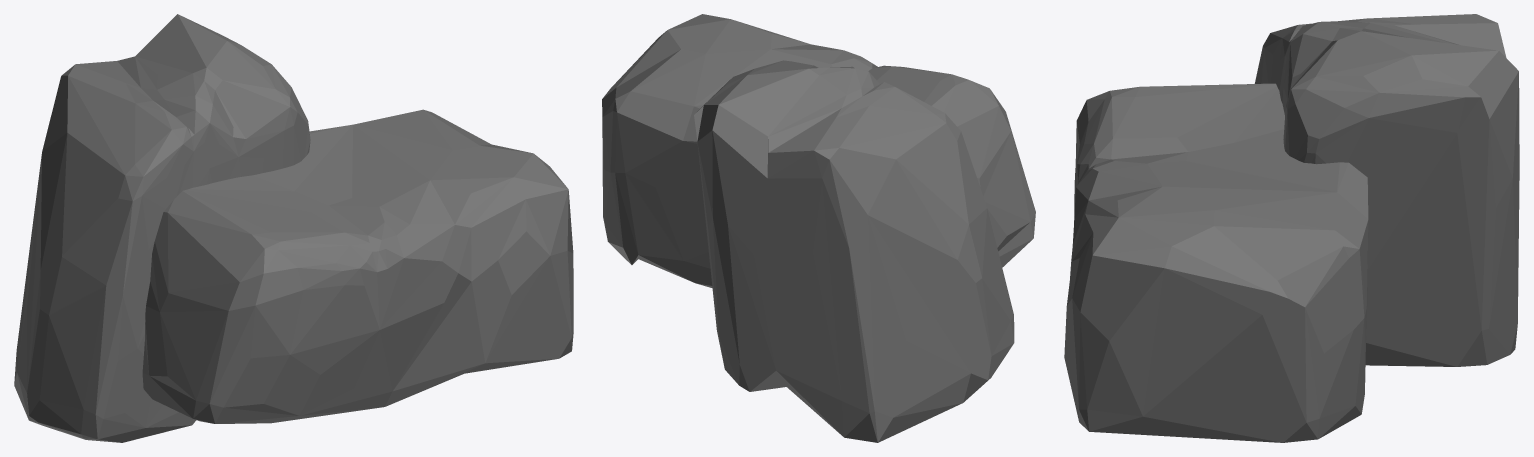
File: Rock_006.glb
3 views of the same model, side by side, from view 1: azimuth 30°, elevation 25°; view 2: azimuth 150°, elevation 25°; view 3: azimuth 270°, elevation 25° (orthographic). The views are drawn at different scales.
Parts seen in each view (by area): view 1: Rock_006; view 2: Rock_006; view 3: Rock_006.
Part boxes in pixels (x1=…): Rock_006: x1=14, y1=14, x2=573, y2=442; Rock_006: x1=602, y1=14, x2=1035, y2=442; Rock_006: x1=1064, y1=14, x2=1519, y2=442.
Bounding box in the file's own units: 5.25 × 3.75 × 4.3.
Materials: 1 (1 with a texture image).
